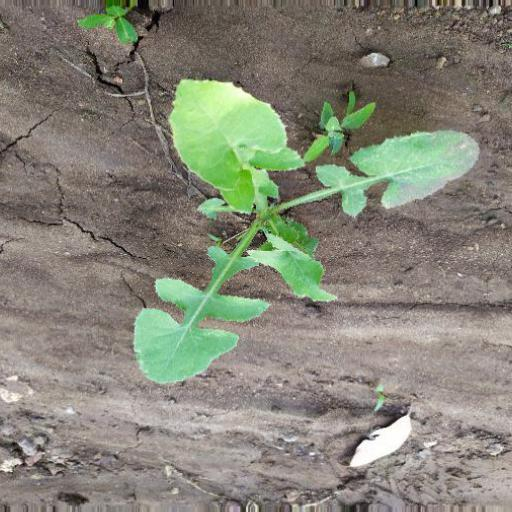crop: (131, 72, 484, 408)
